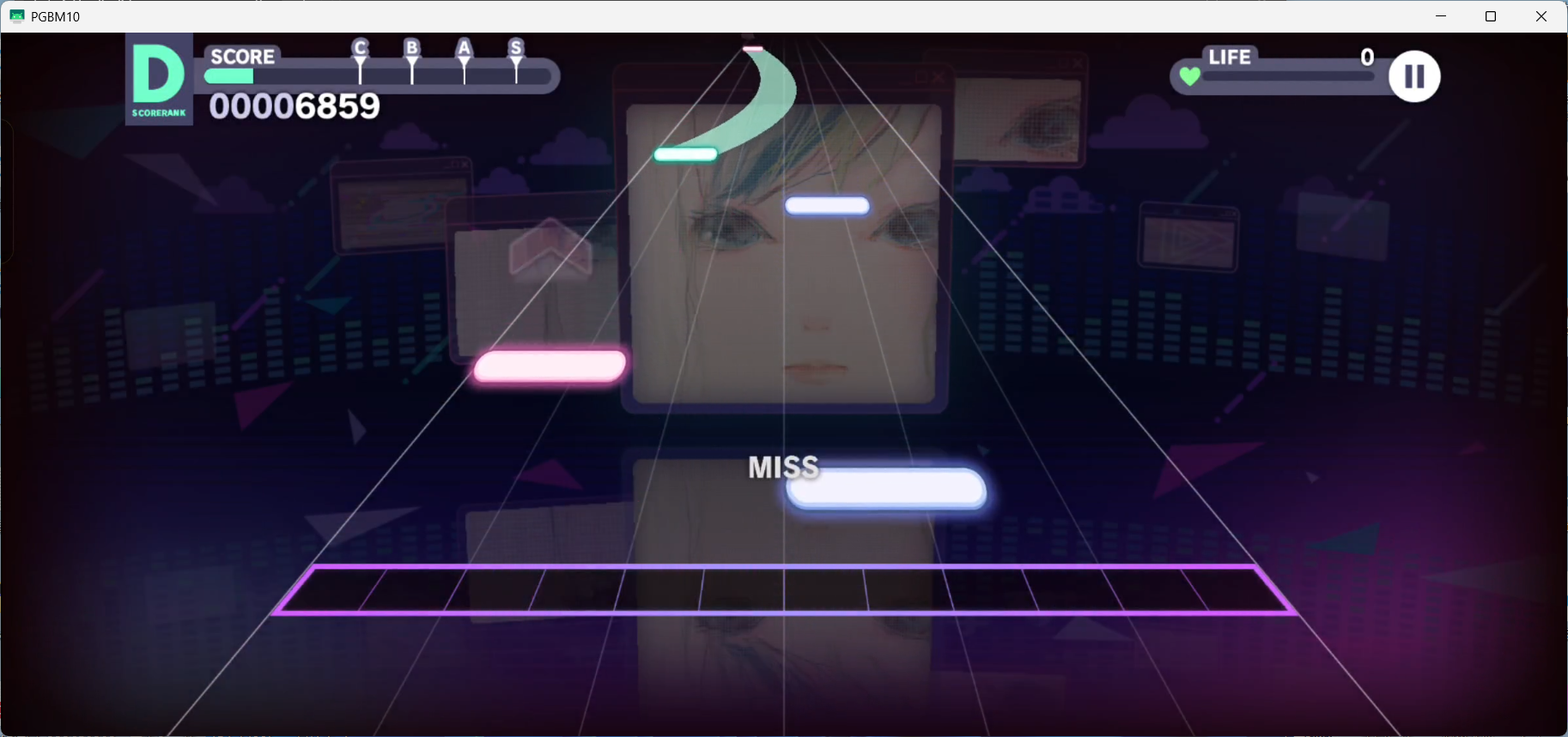flick: (509, 218, 593, 281)
hold: (672, 51, 796, 148)
tap: (785, 468, 987, 510), (472, 350, 626, 382), (786, 196, 870, 215), (653, 148, 718, 162), (743, 46, 763, 51)
